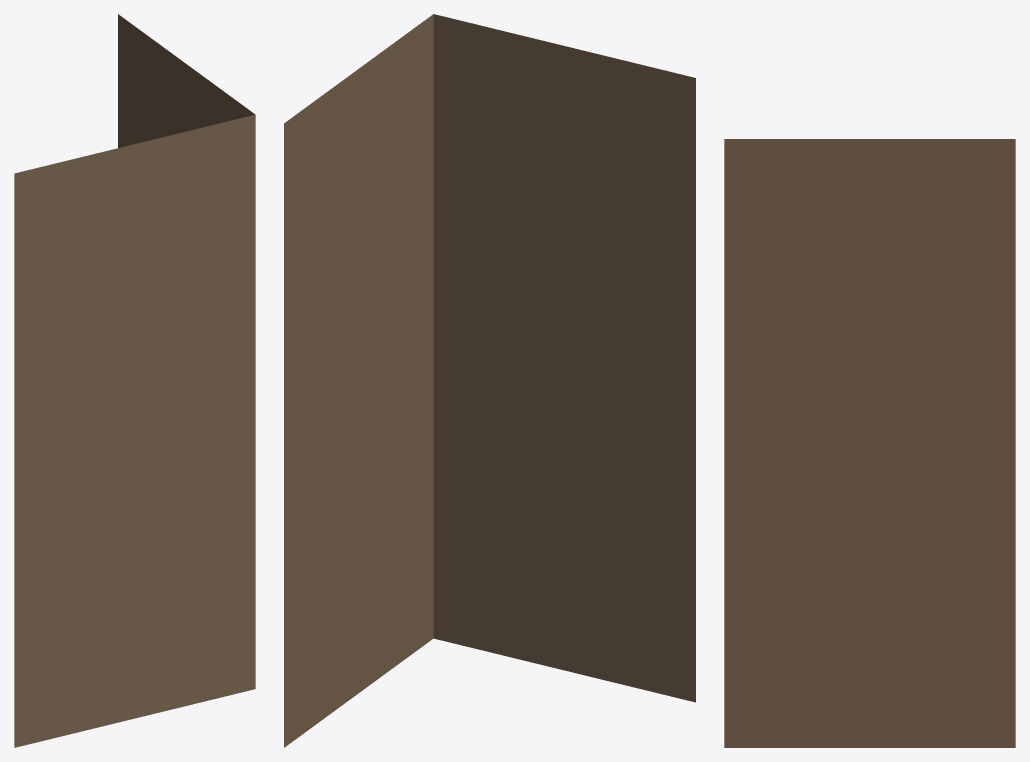
File: LP_PostApoc_BuildingExposedCorner.fbx
3 views of the same model, side by side, from view 1: azimuth 30°, elevation 25°; view 2: azimuth 150°, elevation 25°; view 3: azimuth 270°, elevation 25° (orthographic). The views are drawn at different scales.
Visible parts, largest first — view 1: BuildingExposedCorner; view 2: BuildingExposedCorner; view 3: BuildingExposedCorner.
Boxes of the visible parts, bbox=[...] form: BuildingExposedCorner: bbox=[14, 14, 255, 747]; BuildingExposedCorner: bbox=[284, 14, 695, 747]; BuildingExposedCorner: bbox=[724, 139, 1015, 747].
Bounding box in the file's own units: 56.8 × 129 × 56.07.
